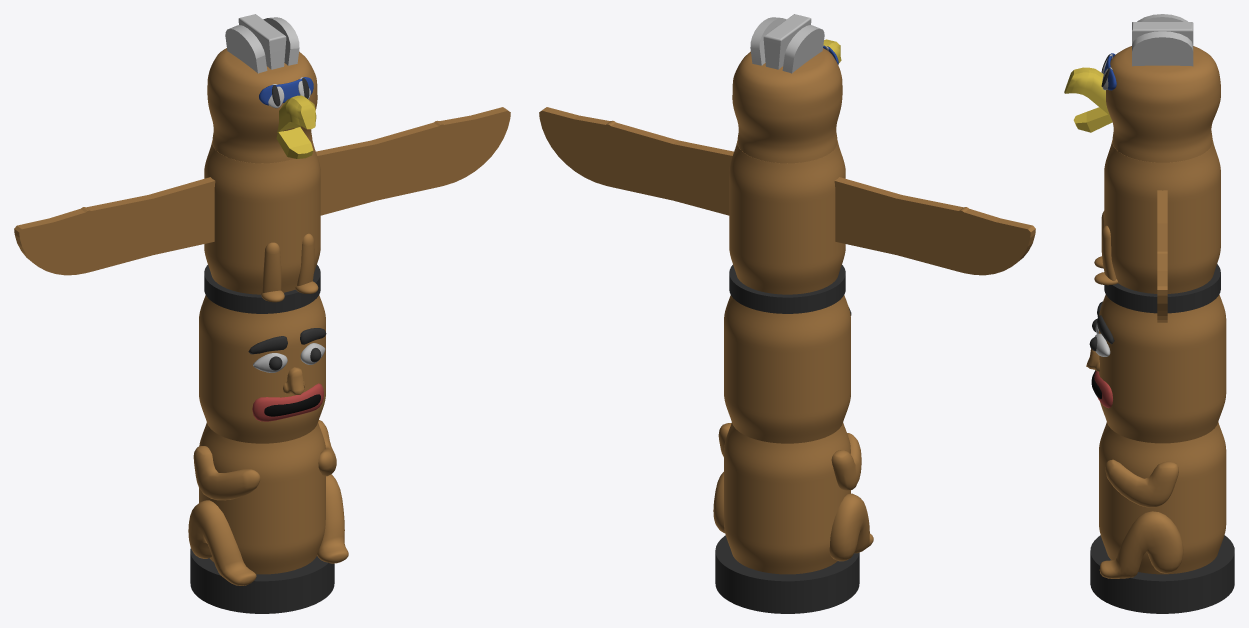
Rendered from TotemPole.fbx.
3 views of the same model, side by side, from view 1: azimuth 30°, elevation 25°; view 2: azimuth 150°, elevation 25°; view 3: azimuth 270°, elevation 25° (orthographic).
Visible parts, largest first — view 1: Bird, pCylinder3, BottomAnimal, pCube4, pCube5, pCylinder6, Base, pCube11, Divider, pCube13, pCube12, pCube17 (+7 smaller); view 2: pCylinder3, BottomAnimal, Bird, pCube4, pCube5, pCylinder6, Base, Divider, pCube11, pCube17, pCube15, pCube13 (+1 smaller); view 3: pCylinder3, Bird, BottomAnimal, pCylinder6, Base, pCube12, pCube14, Divider, pCube16, pCube5, pCube1, pCube17 (+6 smaller).
Part boxes in pixels (x1,y1,x2,y2): Bird: [204, 140, 320, 294]; pCylinder3: [199, 295, 325, 443]; BottomAnimal: [199, 422, 325, 574]; pCube4: [14, 177, 215, 275]; pCube5: [316, 107, 510, 215]; pCylinder6: [207, 48, 317, 163]; Base: [190, 548, 334, 613]; pCube11: [188, 500, 256, 585]; Divider: [204, 265, 320, 313]; pCube13: [193, 446, 260, 500]; pCube12: [317, 474, 348, 563]; pCube17: [238, 14, 286, 69]; pCylinder3: [724, 295, 850, 443]; BottomAnimal: [724, 422, 850, 574]; Bird: [729, 140, 845, 294]; pCube4: [834, 177, 1035, 275]; pCube5: [539, 107, 733, 215]; pCylinder6: [732, 48, 842, 163]; Base: [715, 535, 859, 613]; Divider: [729, 265, 845, 313]; pCube11: [829, 493, 873, 561]; pCube17: [763, 14, 811, 69]; pCube15: [782, 25, 824, 73]; pCube13: [831, 433, 861, 490]; pCylinder3: [1099, 294, 1226, 443]; Bird: [1104, 140, 1220, 293]; BottomAnimal: [1099, 422, 1226, 574]; pCylinder6: [1106, 46, 1220, 162]; Base: [1090, 535, 1234, 613]; pCube12: [1099, 511, 1183, 578]; pCube14: [1105, 459, 1178, 507]; Divider: [1104, 264, 1220, 313]; pCube16: [1132, 31, 1193, 66]; pCube5: [1157, 190, 1167, 322]; pCube1: [1064, 67, 1109, 115]; pCube17: [1132, 22, 1193, 45].
Size of the model in its own units: 157 by 171 by 47.23.
